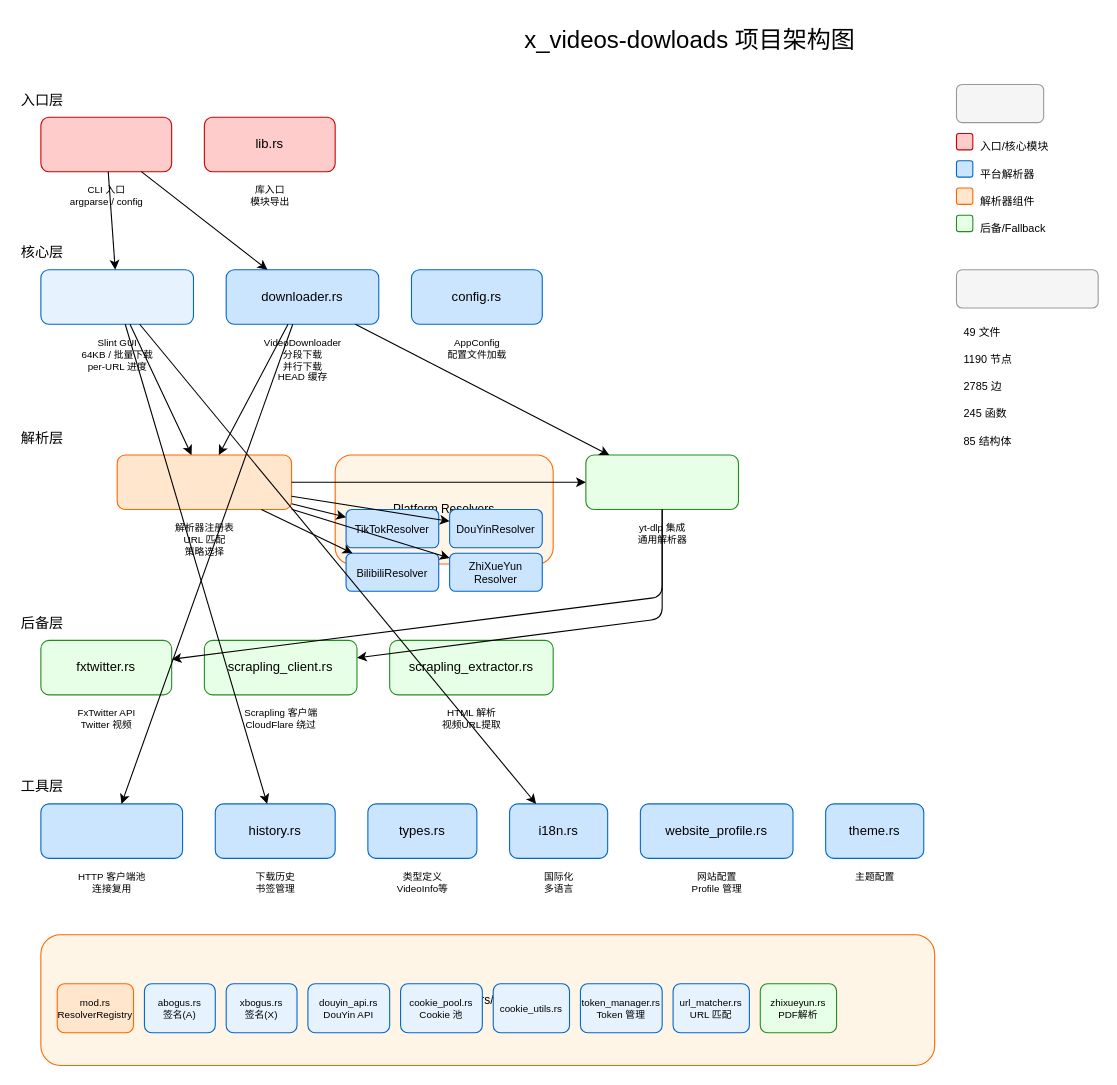
Image size: 1117x1085. Some labels were removed from this diagram. The shapes that lost their labels are listed below. From the top down, each one's centre as x and y in pixels, then its label:
pixel 999 103: 图例
pixel 106 144: main.rs
pixel 116 296: gui.rs
pixel 1026 288: 代码统计
pixel 204 482: ResolverRegistry
pixel 661 482: YtDlpResolver
pixel 111 830: http_client.rs
